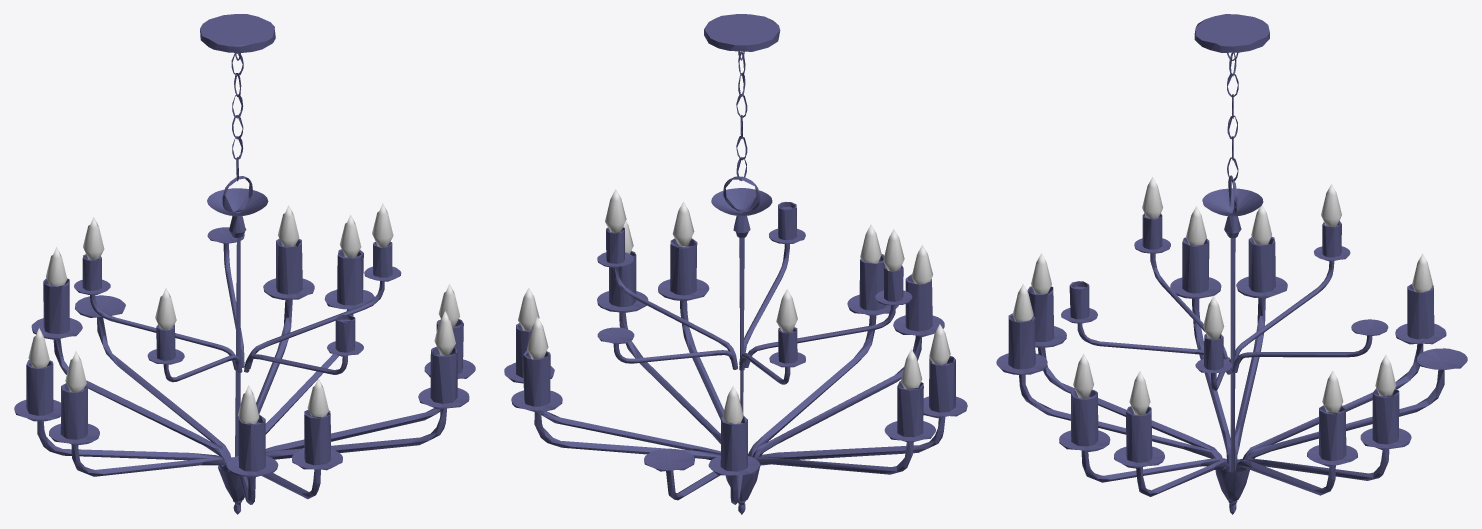
The model's file is diaodeng.FBX.
3 renders of one model, left to right at view 1: azimuth 30°, elevation 25°; view 2: azimuth 150°, elevation 25°; view 3: azimuth 270°, elevation 25°, orthographic.
Parts seen in each view (by area): view 1: Arch28_013_83, Arch28_013_50, Arch28_013_101, Arch28_013_131, Arch28_013_122, Arch28_013_93, Arch28_013_08, Arch28_013_103, Arch28_013_106, Arch28_013_34, Arch28_013_16, Arch28_013_43 (+35 smaller); view 2: Arch28_013_83, Arch28_013_04, Arch28_013_129, Arch28_013_131, Arch28_013_23, Arch28_013_34, Arch28_013_08, Arch28_013_93, Arch28_013_43, Arch28_013_101, Arch28_013_122, Arch28_013_41 (+32 smaller); view 3: Arch28_013_83, Arch28_013_131, Arch28_013_93, Arch28_013_103, Arch28_013_34, Arch28_013_16, Arch28_013_08, Arch28_013_43, Arch28_013_25, Arch28_013_106, Arch28_013_01, Arch28_013_11 (+39 smaller).
Boxes of the visible parts, x1,y1,x2,y2 form: Arch28_013_83: (200, 14, 275, 52); Arch28_013_50: (53, 338, 229, 462); Arch28_013_101: (37, 421, 223, 470); Arch28_013_131: (430, 347, 457, 403); Arch28_013_122: (238, 414, 265, 471); Arch28_013_93: (26, 360, 53, 415); Arch28_013_08: (60, 383, 87, 439); Arch28_013_103: (337, 249, 363, 305); Arch28_013_106: (97, 317, 231, 459); Arch28_013_34: (276, 238, 302, 294); Arch28_013_16: (304, 410, 330, 465); Arch28_013_43: (43, 278, 69, 333); Arch28_013_83: (704, 14, 780, 51); Arch28_013_04: (759, 417, 945, 459); Arch28_013_129: (752, 335, 921, 458); Arch28_013_131: (670, 238, 697, 295); Arch28_013_23: (748, 315, 876, 456); Arch28_013_34: (523, 350, 550, 406); Arch28_013_08: (929, 356, 955, 412); Arch28_013_93: (897, 381, 923, 437); Arch28_013_43: (720, 416, 747, 471); Arch28_013_101: (756, 442, 913, 474); Arch28_013_122: (905, 274, 932, 331); Arch28_013_41: (534, 412, 720, 459); Arch28_013_83: (1194, 14, 1269, 52); Arch28_013_131: (1071, 389, 1098, 446); Arch28_013_93: (1248, 237, 1275, 292); Arch28_013_103: (1319, 405, 1346, 461); Arch28_013_34: (1372, 388, 1399, 444); Arch28_013_16: (1008, 313, 1035, 369); Arch28_013_08: (1182, 237, 1209, 293); Arch28_013_43: (1407, 284, 1434, 339); Arch28_013_25: (1126, 406, 1152, 462); Arch28_013_106: (1245, 369, 1444, 469); Arch28_013_01: (1230, 238, 1235, 472); Arch28_013_11: (1202, 188, 1263, 216).
Size of the model in its own units: 101 by 119 by 104.
